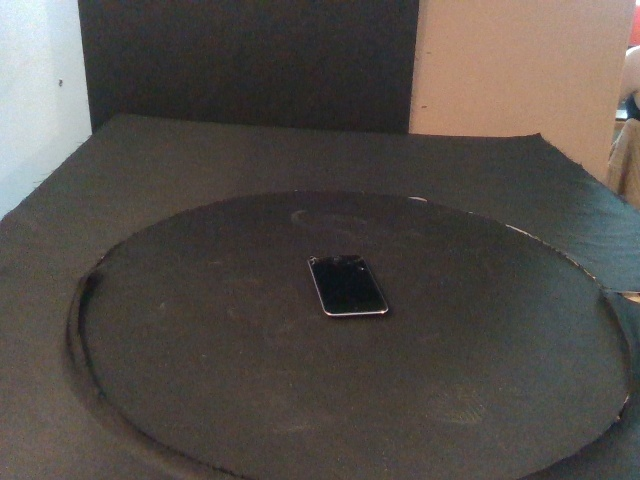phone: (306, 253, 389, 318)
